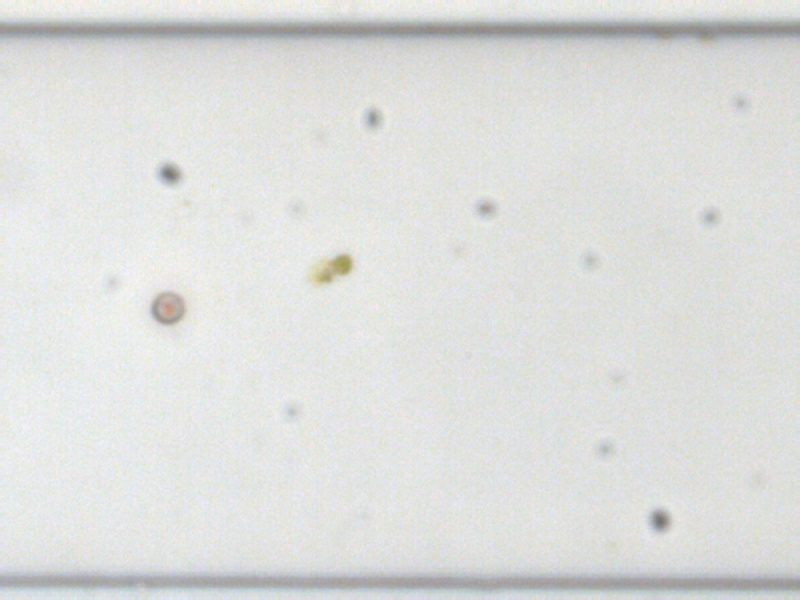Dunaliella salina: (326, 252, 353, 275)
Porphyridium: (148, 289, 189, 328)
